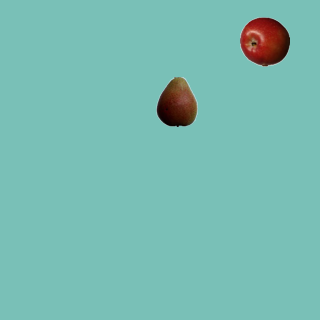Apple Braeburn: (239, 16, 289, 66)
Pear Forelle: (151, 76, 201, 126)
